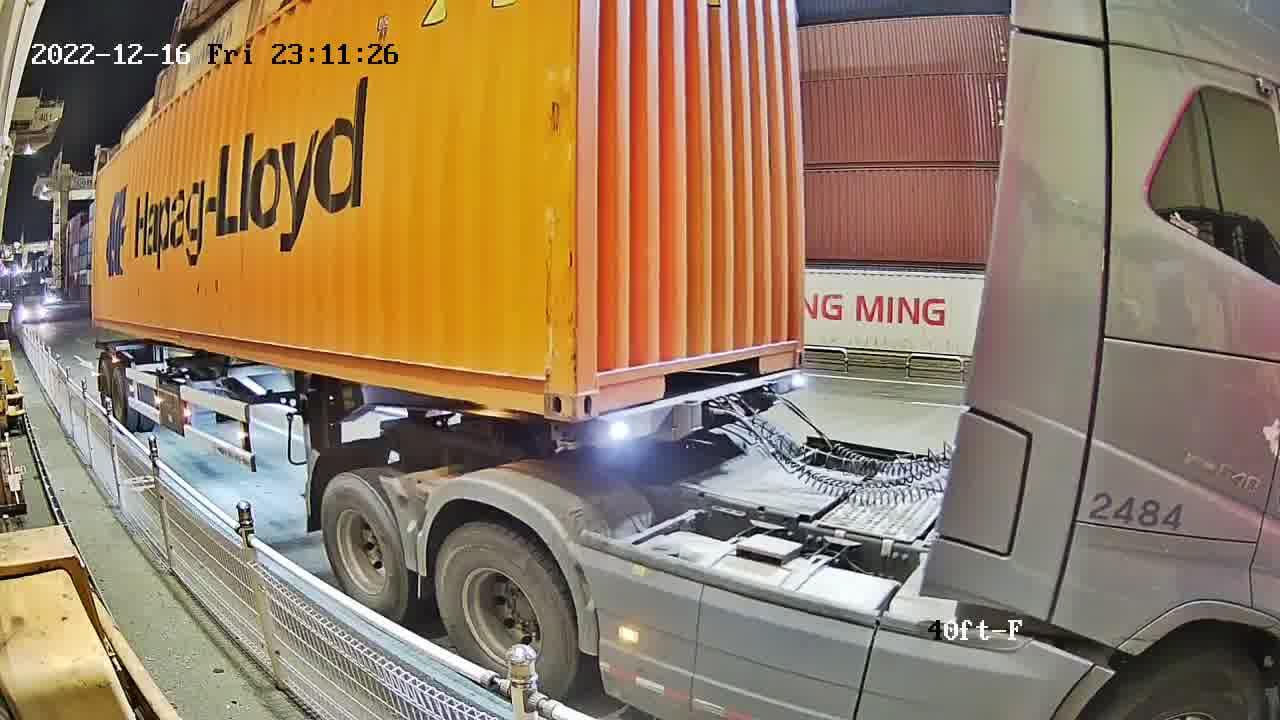Chassis: (557, 366, 801, 451)
Cone: (549, 422, 588, 454)
Hole_L: (575, 348, 626, 421)
Hole_R: (519, 358, 572, 424), (766, 309, 807, 374)
Tire: (437, 527, 573, 697), (321, 475, 408, 616)
